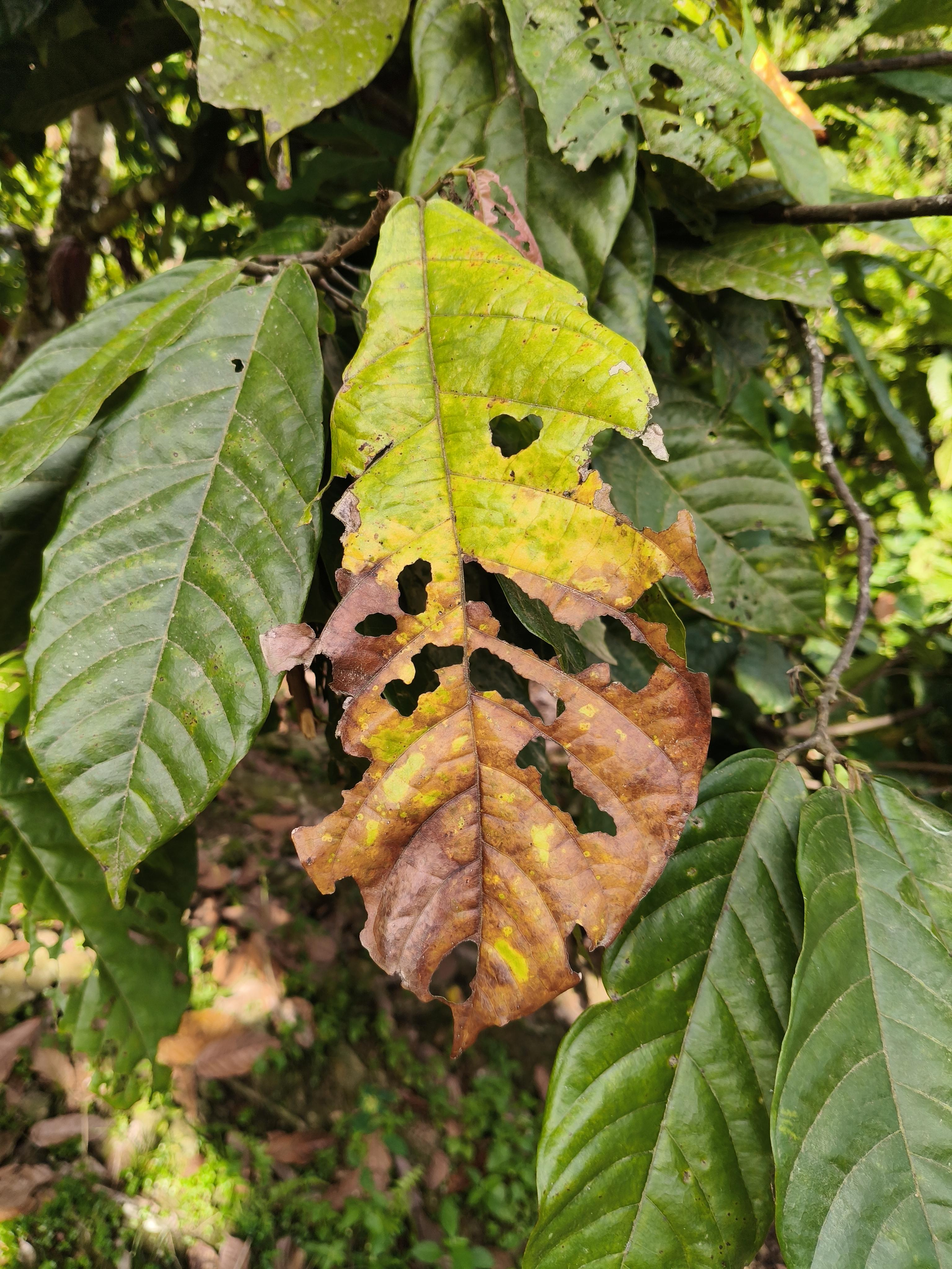deficiencia_potasio: (289, 165, 740, 1079)
